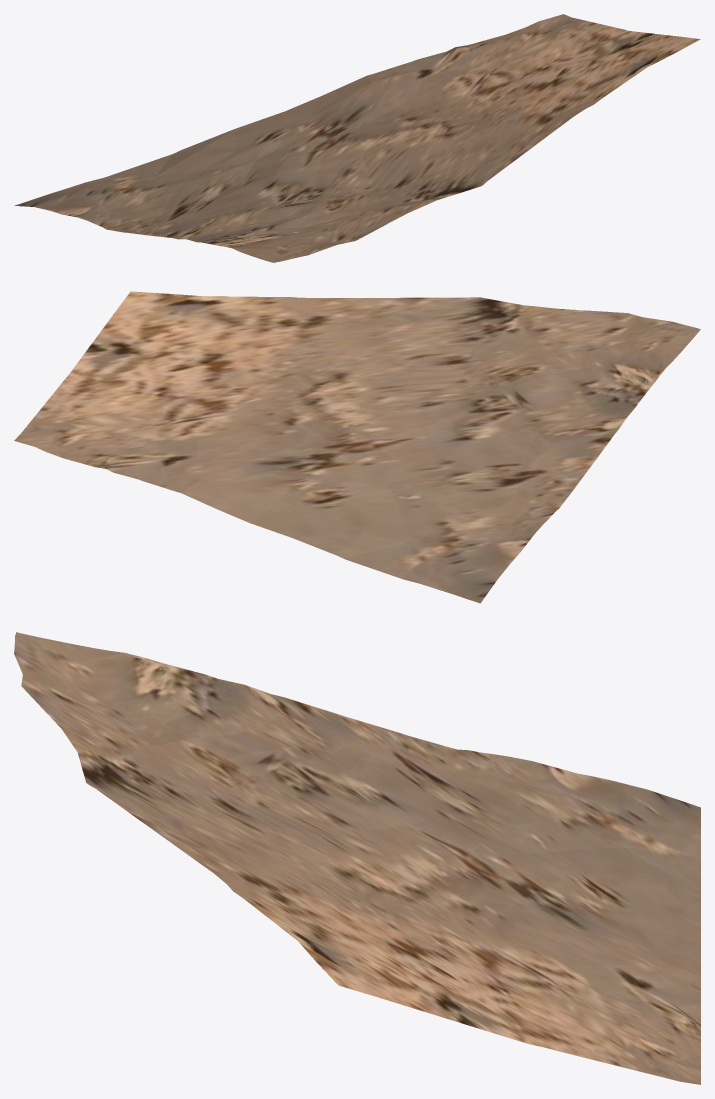
3 renders of one model, top to bottom at view 1: azimuth 30°, elevation 25°; view 2: azimuth 150°, elevation 25°; view 3: azimuth 270°, elevation 25°, orthographic. The views are drawn at different scales.
Size of the model in its own units: 2.09 by 0.483 by 1.72.
2 materials, 2 textured.
